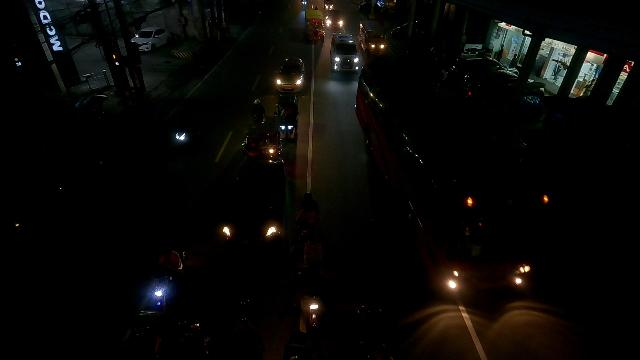car: (217, 154, 286, 252), (330, 32, 360, 71), (276, 57, 305, 92)
jeepney: (374, 15, 607, 264), (359, 19, 388, 56), (305, 9, 325, 40)
